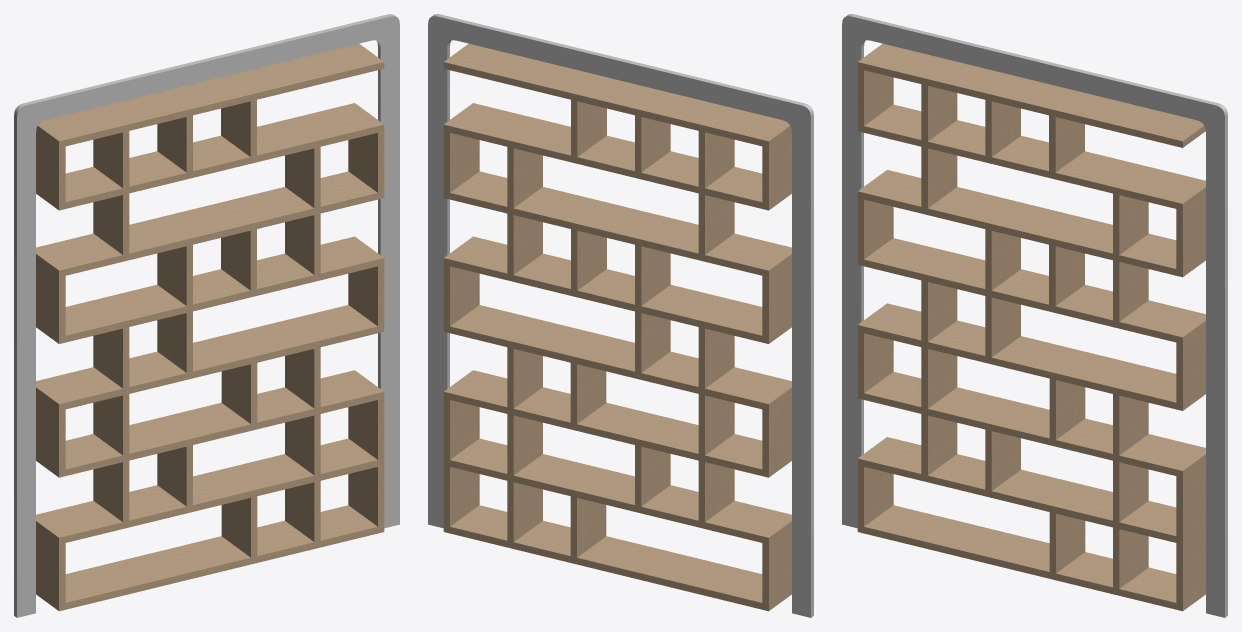
File: D_CafeShelf_002.fbx
3 renders of one model, left to right at view 1: azimuth 30°, elevation 25°; view 2: azimuth 150°, elevation 25°; view 3: azimuth 330°, elevation 25°, orthographic.
Parts seen in each view (by area): view 1: D_CafeShelf_002; view 2: D_CafeShelf_002; view 3: D_CafeShelf_002.
Boxes of the visible parts, x1,y1,x2,y2 form: D_CafeShelf_002: (14,14,399,617); D_CafeShelf_002: (428,14,813,617); D_CafeShelf_002: (842,14,1227,617).
Bounding box in the file's own units: 3 × 3.82 × 0.4002.
